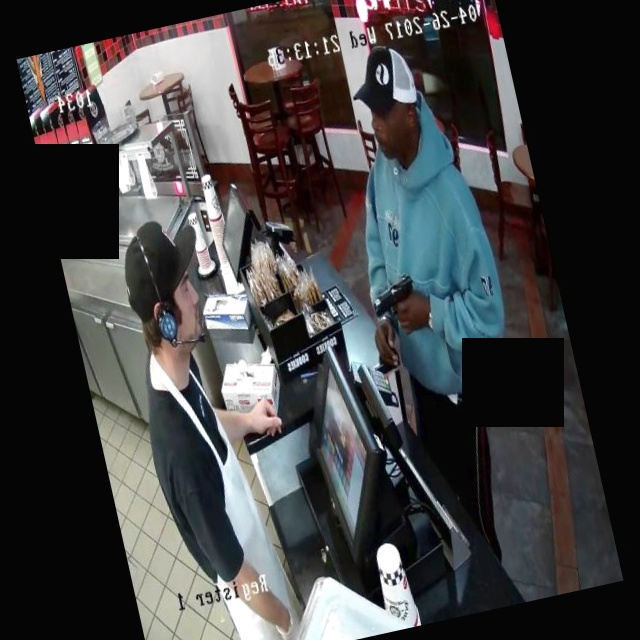gun: (355, 256, 435, 339)
